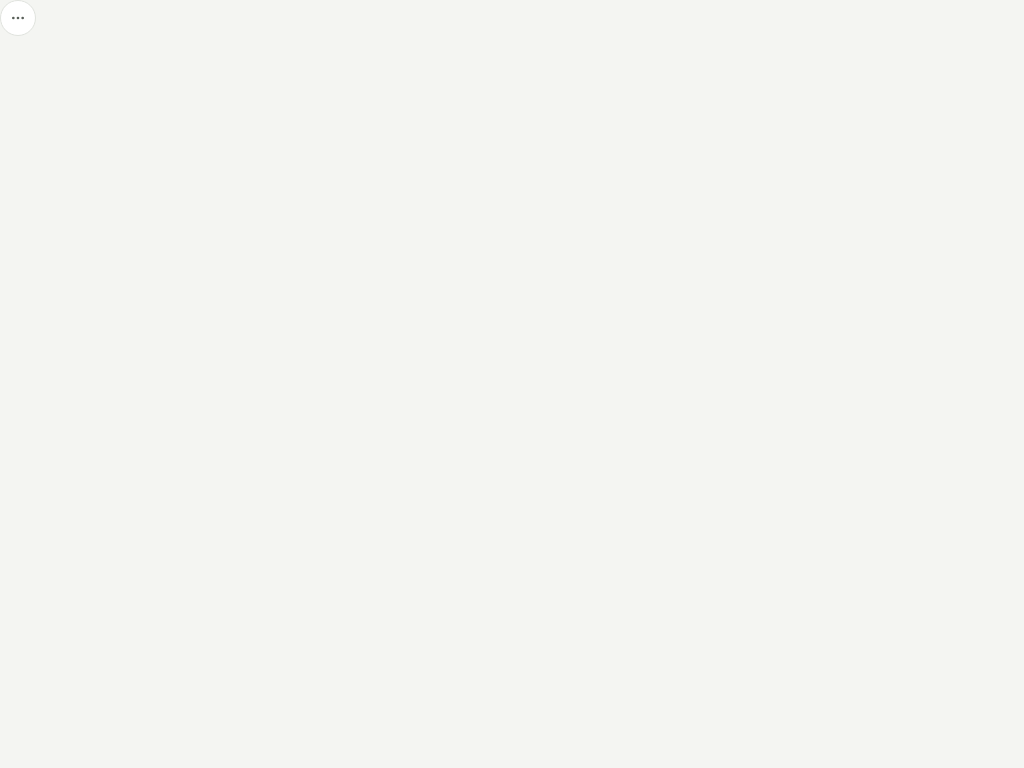
Scenario: duplicating an event › offers a copy named after the event, a week out on the hour, with merch and doors ticked
Press Enter in the button named "More for Hack Night 04", box [0, 0, 36, 36]
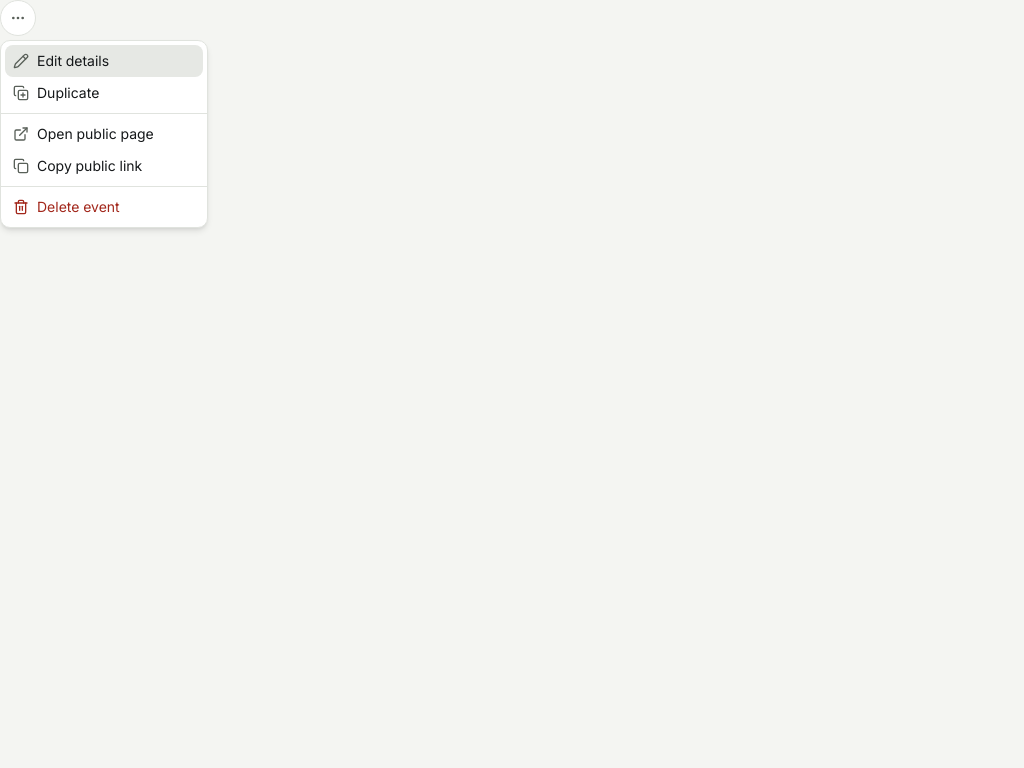
Click the menu item "Duplicate". click: (56, 92)
box: [13, 84, 99, 101]
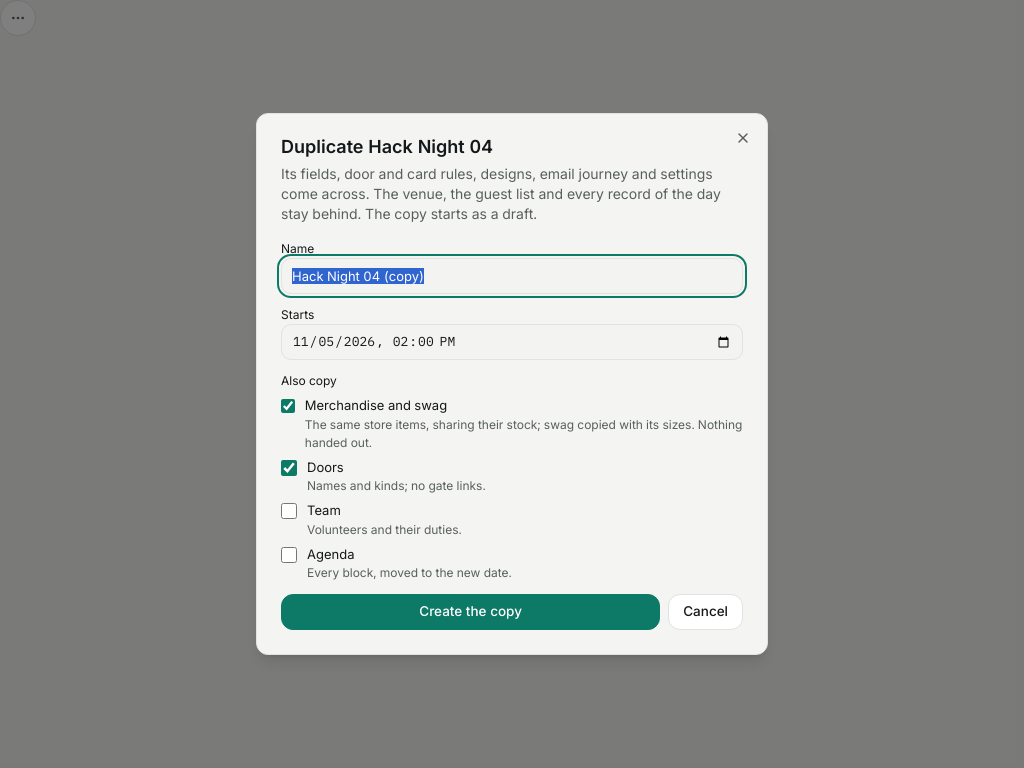
Check: the heading "Duplicate Hack Night 04" is shown, box [281, 136, 493, 157]
Check: the text "The venue, the guest list and every record of the day stay behind" is shown, box [281, 165, 721, 222]
Check: the field labelled "Name" holds "Hack Night 04 (copy)", box [281, 258, 743, 294]
